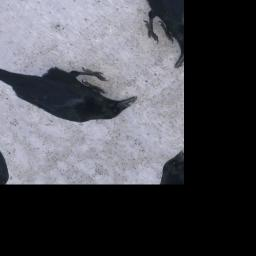Crow: (0, 19, 139, 150)
